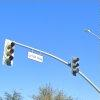traffic lights: (2, 38, 15, 68), (70, 55, 81, 78)
